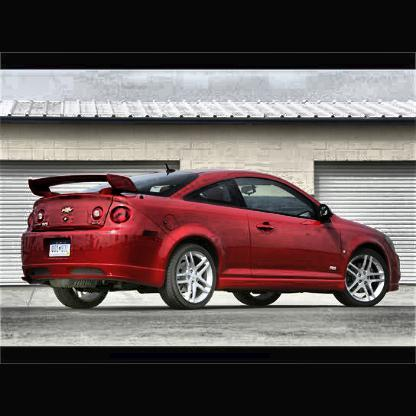Chevrolet Cobalt SS 2010: (20, 166, 405, 315)
